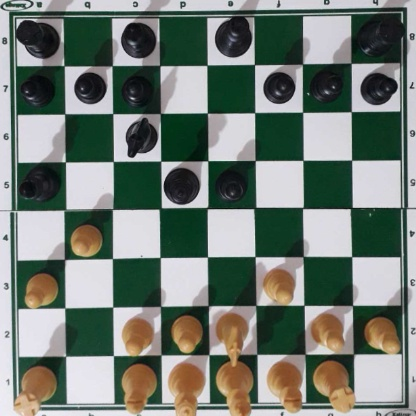black-bishop: (16, 166, 62, 202), (118, 22, 159, 59)
black-king: (213, 14, 254, 59)
black-knight: (123, 116, 156, 155)
black-pawn: (360, 69, 396, 105), (262, 69, 295, 103), (20, 72, 54, 104), (311, 67, 343, 101), (216, 168, 248, 202), (121, 70, 152, 105), (73, 70, 104, 104)
black-queen: (162, 166, 199, 204)
black-rook: (358, 10, 402, 55), (12, 16, 59, 58)
white-bishop: (266, 361, 303, 411), (121, 360, 154, 413)
white-king: (215, 358, 253, 414)
white-knight: (214, 311, 251, 367)
white-pawn: (309, 310, 347, 350), (363, 314, 400, 351), (67, 220, 104, 257), (21, 272, 58, 308), (120, 315, 154, 354), (261, 266, 295, 304), (169, 313, 202, 351)
white-queen: (166, 361, 205, 416)
white-rook: (15, 360, 55, 416), (312, 363, 353, 409)
